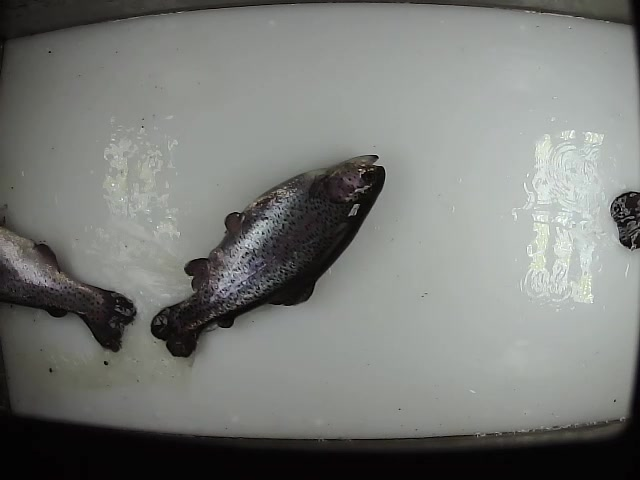fish: (147, 150, 387, 360), (1, 227, 137, 355)
